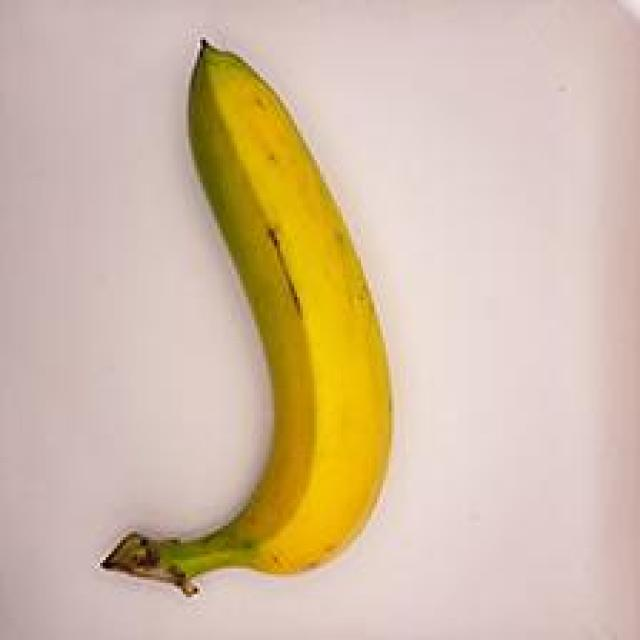unripe: (92, 34, 415, 597)
